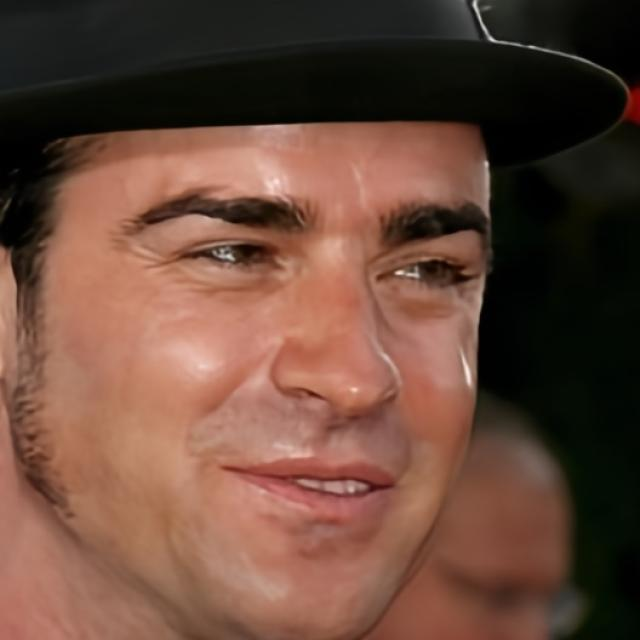content: (0, 120, 488, 640)
